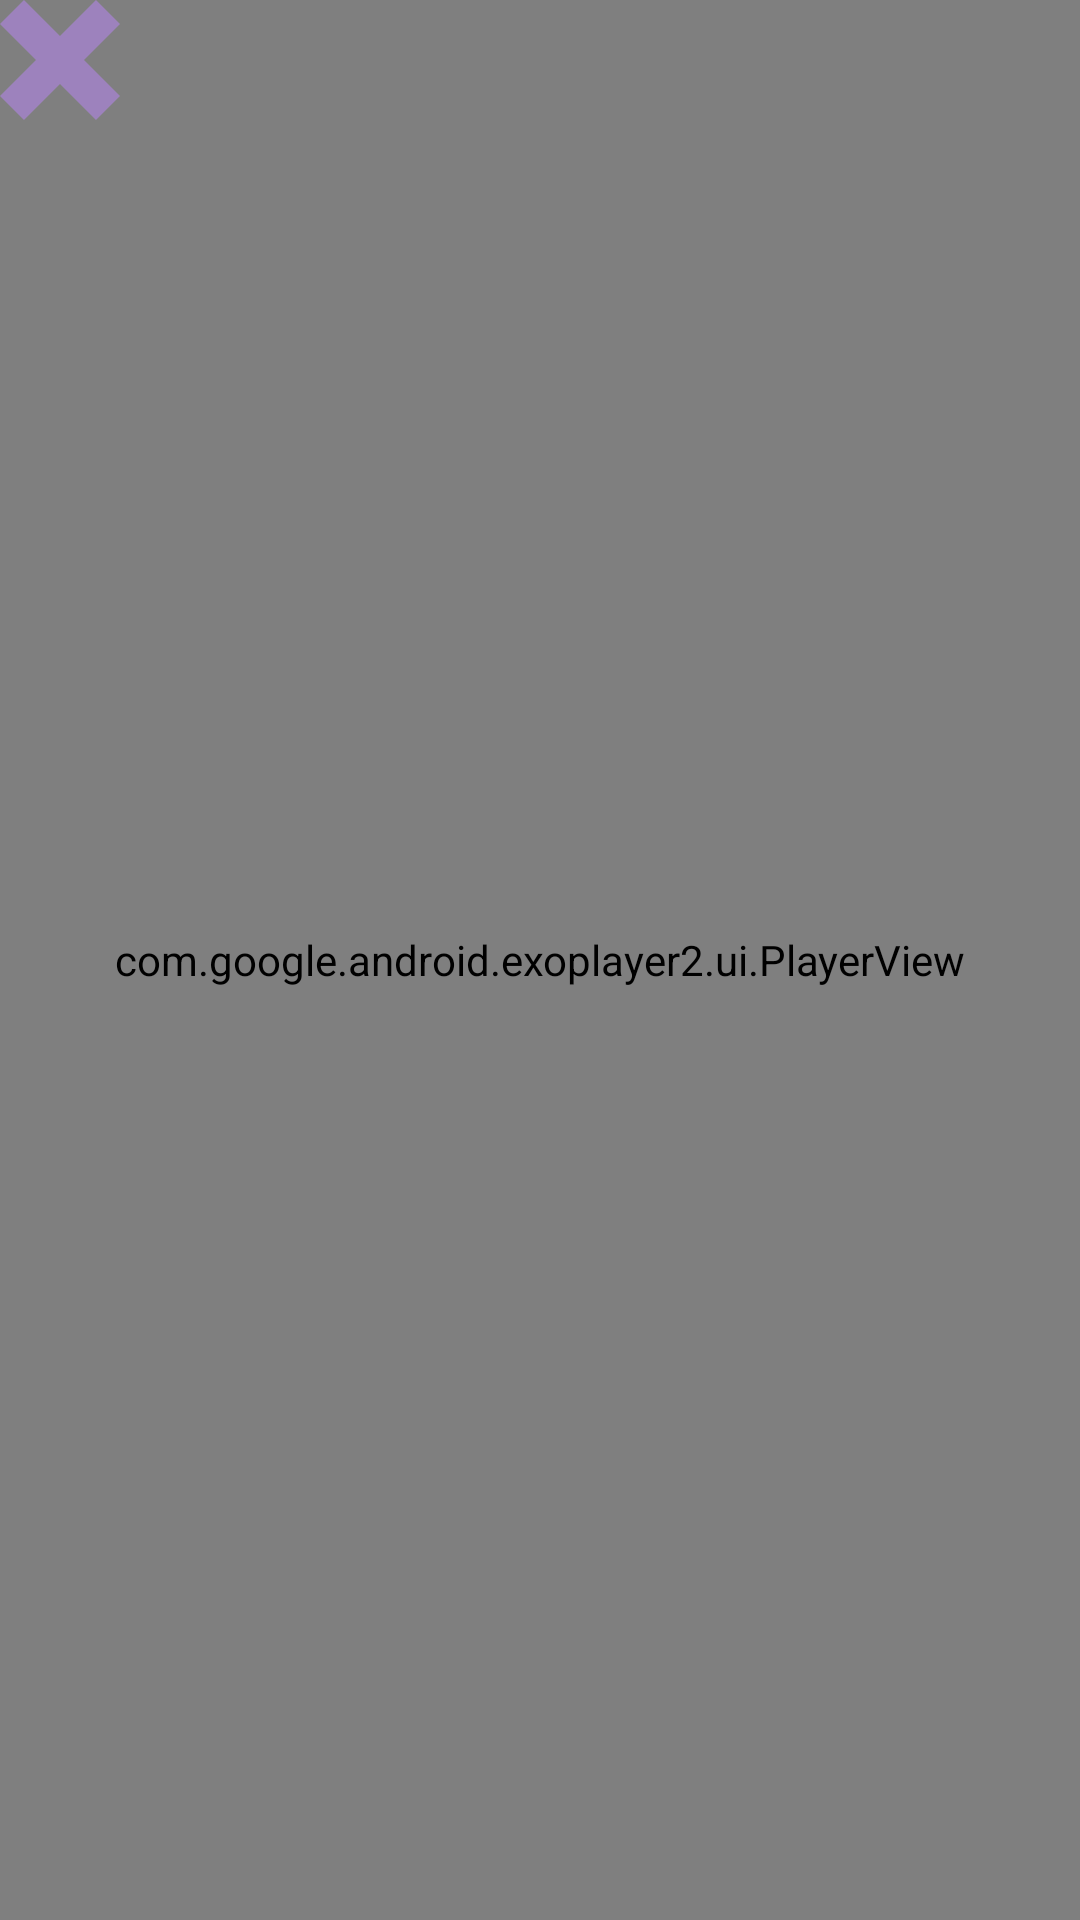

Named icons in this screenshot (1080x1920) and their centers, point (x, y):
cross: point (60, 60)
